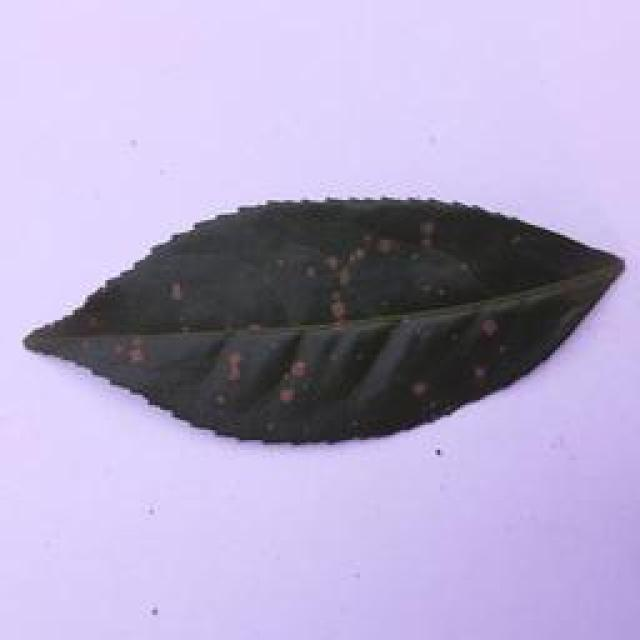Algal Leaf Spot: (14, 185, 636, 460)
